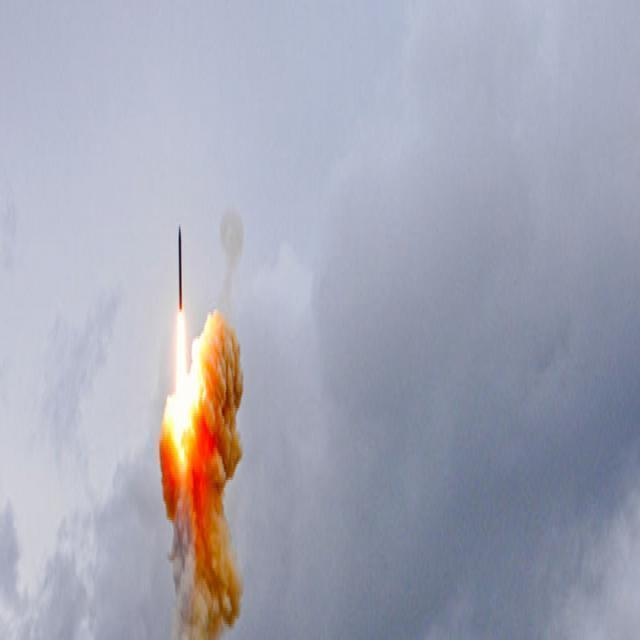missile: (169, 224, 192, 315)
